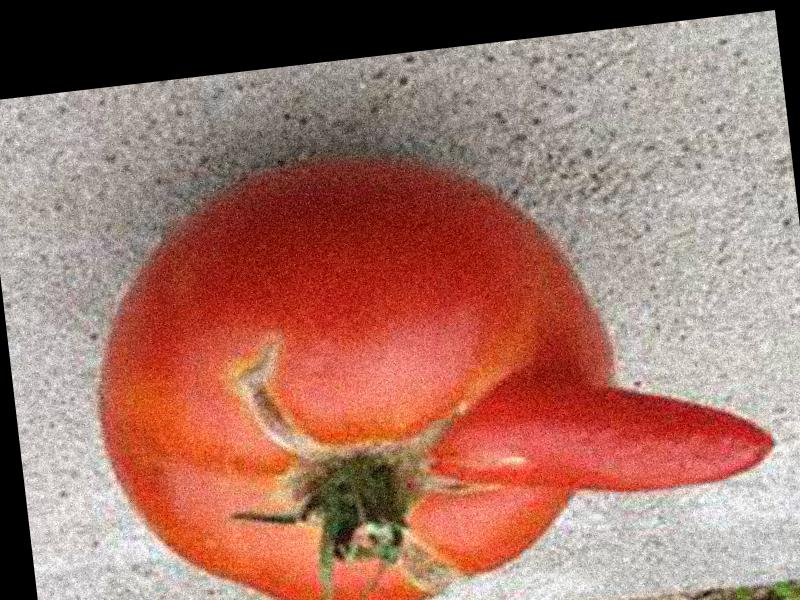Tomato: (70, 144, 639, 600)
